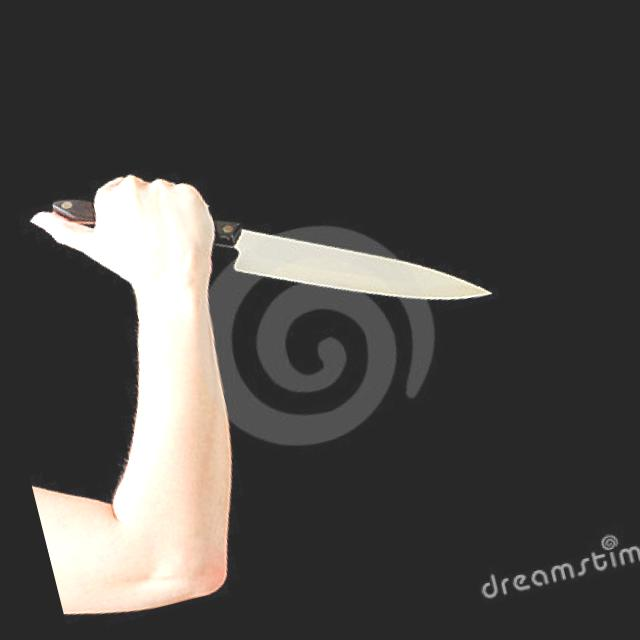knife: (136, 91, 507, 374)
